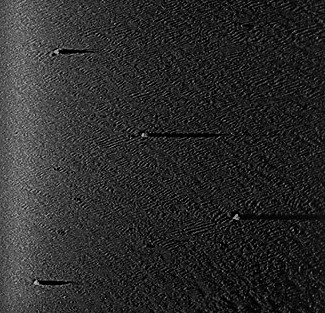mine: (231, 213, 319, 221), (140, 132, 220, 137), (52, 48, 95, 54), (33, 279, 76, 284)
